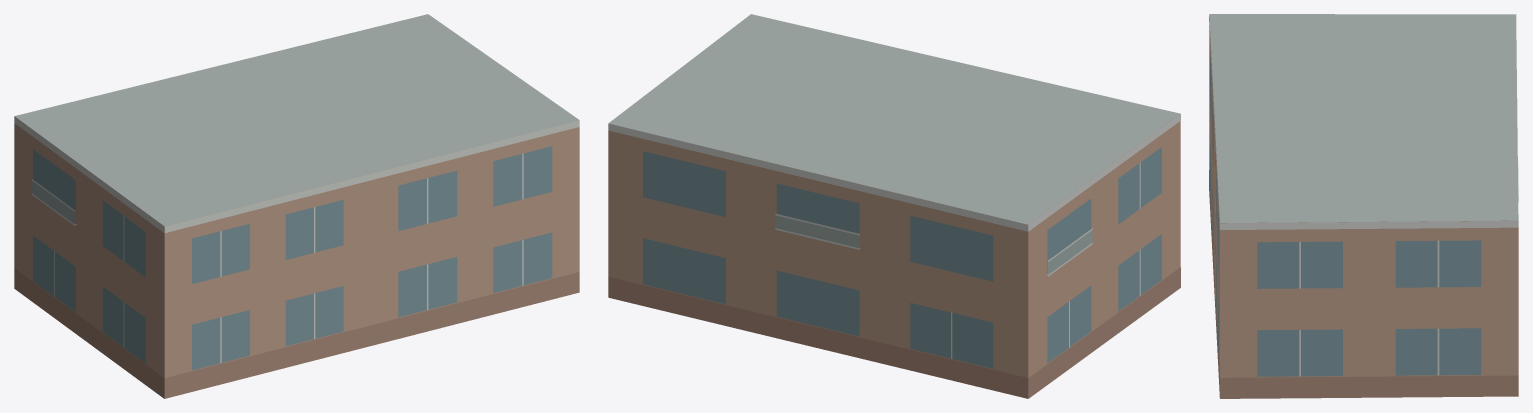
The model's file is survey-upis-32878193.glb.
3 views of the same model, side by side, from view 1: azimuth 30°, elevation 25°; view 2: azimuth 150°, elevation 25°; view 3: azimuth 270°, elevation 25° (orthographic).
Visible parts, largest first — view 1: survey-upis-32878193.tmp; view 2: survey-upis-32878193.tmp; view 3: survey-upis-32878193.tmp.
Boxes of the visible parts, x1=… form: survey-upis-32878193.tmp: x1=14, y1=14, x2=579, y2=398; survey-upis-32878193.tmp: x1=608, y1=14, x2=1180, y2=398; survey-upis-32878193.tmp: x1=1209, y1=14, x2=1518, y2=398.
Size of the model in its own units: 15.6 by 6.1 by 9.74.
